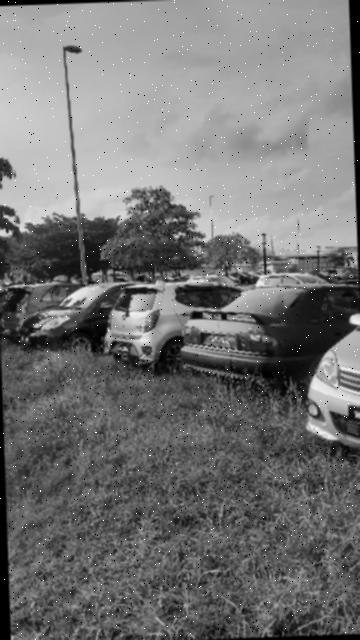License_Plate: (198, 327, 239, 352), (344, 401, 360, 427), (116, 342, 141, 358)
car: (173, 277, 360, 401), (102, 273, 244, 372), (17, 279, 158, 356), (300, 290, 360, 455), (1, 277, 111, 352)
